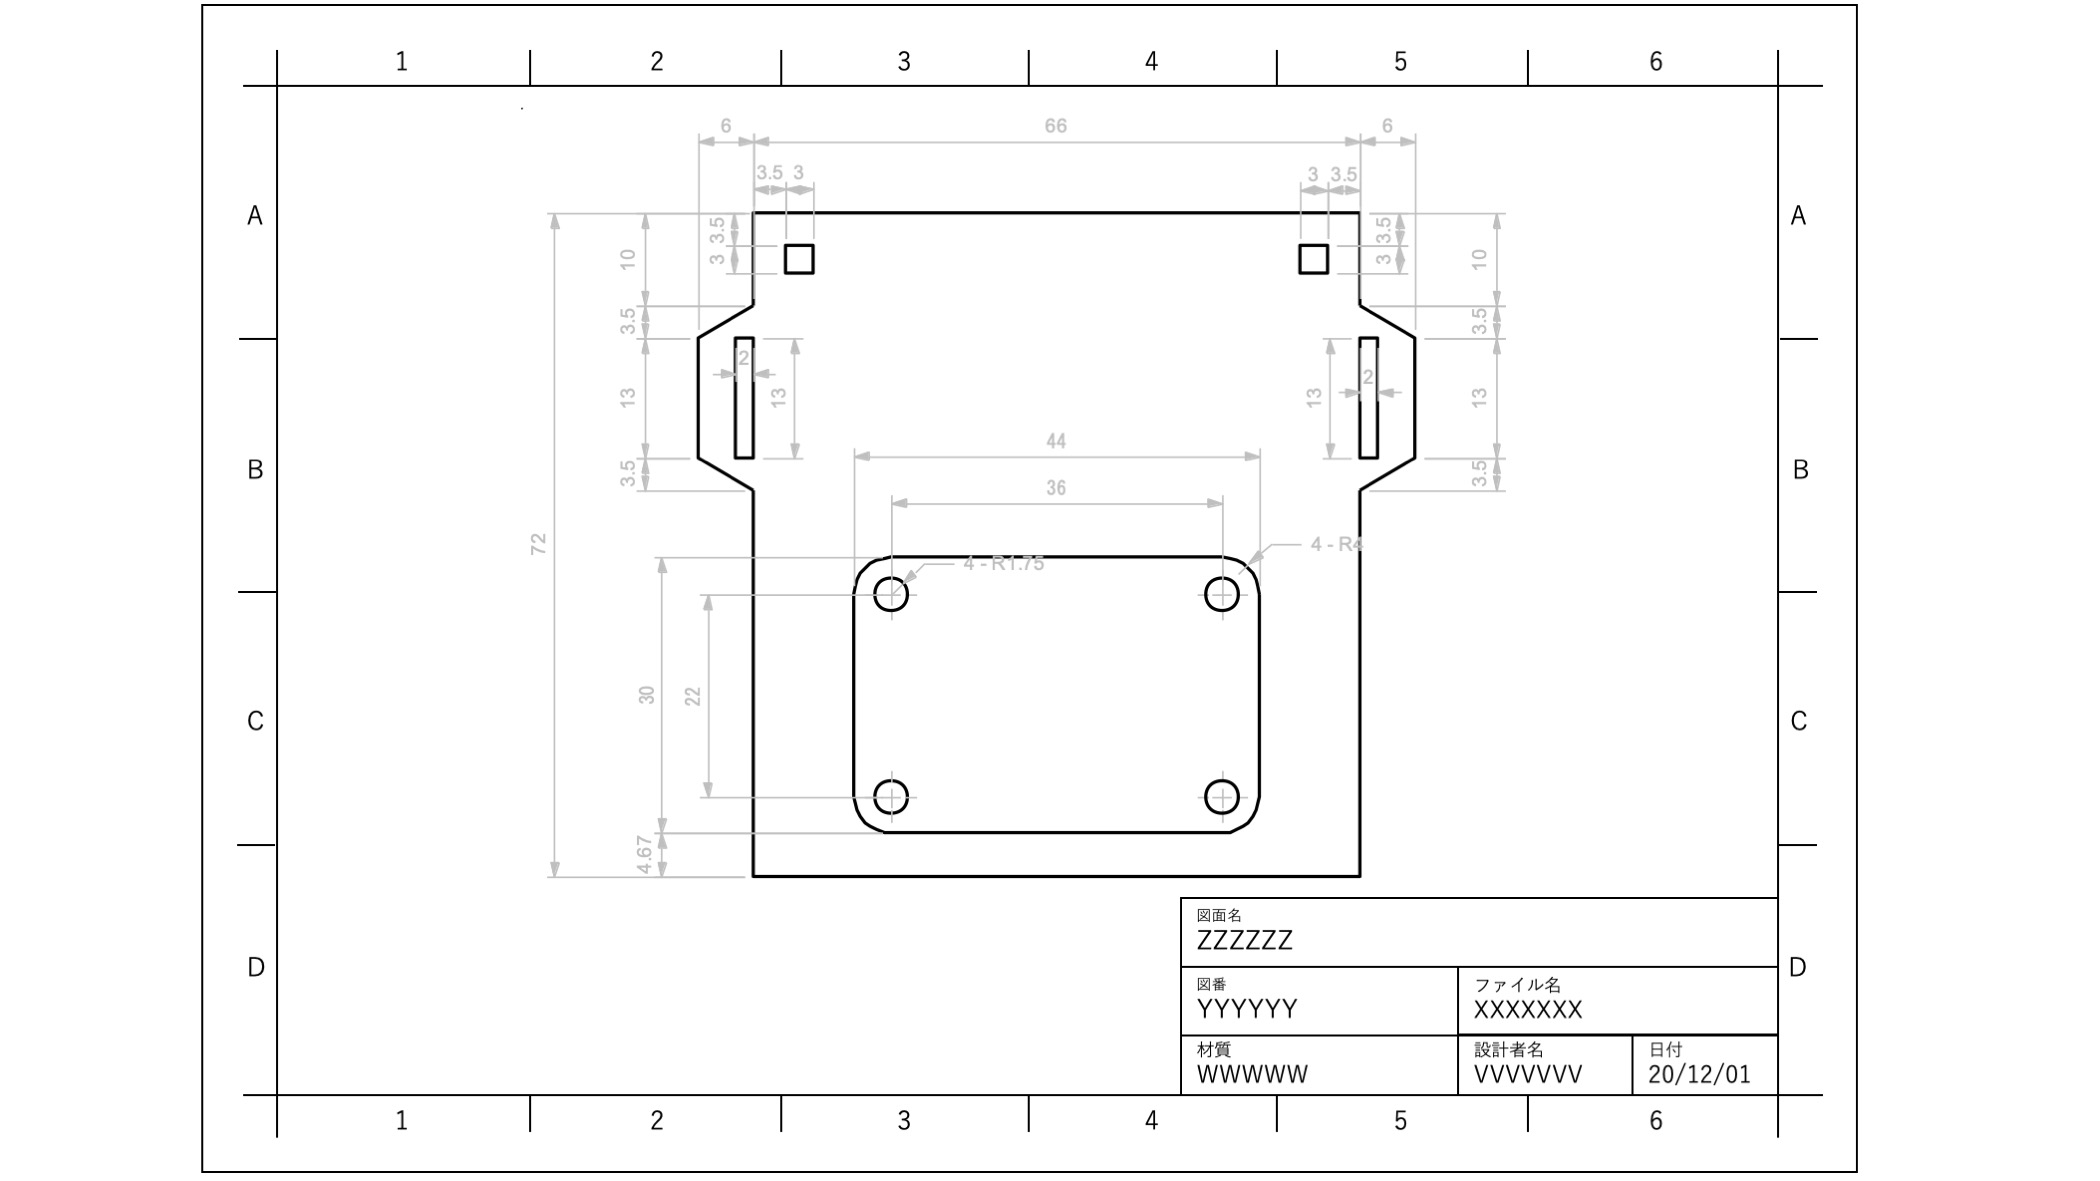circle: (1190, 758, 1243, 820), (865, 771, 922, 815), (864, 567, 914, 614), (1201, 568, 1243, 614)
rectangle: (1344, 324, 1385, 473), (724, 322, 762, 472), (772, 232, 826, 278), (1291, 235, 1333, 286)
